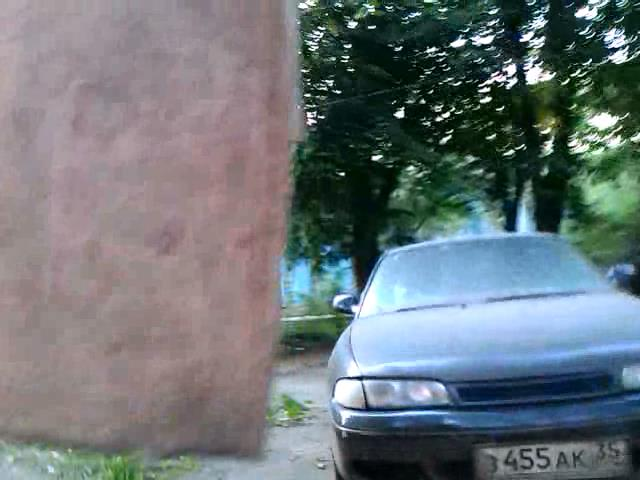car license plate: (471, 438, 628, 480)
